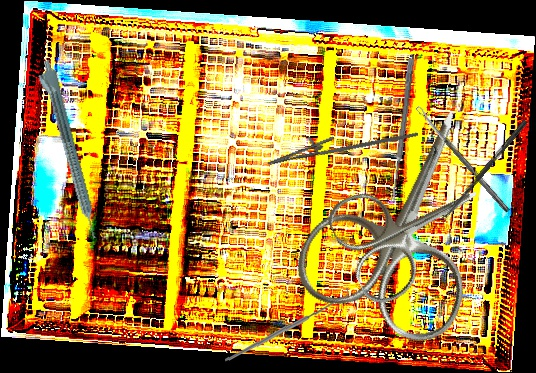Handpiece: (33, 58, 101, 243)
Hook Surgical: (225, 283, 348, 367)
Iris Scissors: (285, 78, 532, 354), (321, 143, 503, 312)
Needle Holder: (263, 104, 419, 183)
Surgical Spoon: (415, 104, 511, 214), (439, 118, 528, 224), (389, 58, 415, 203)
